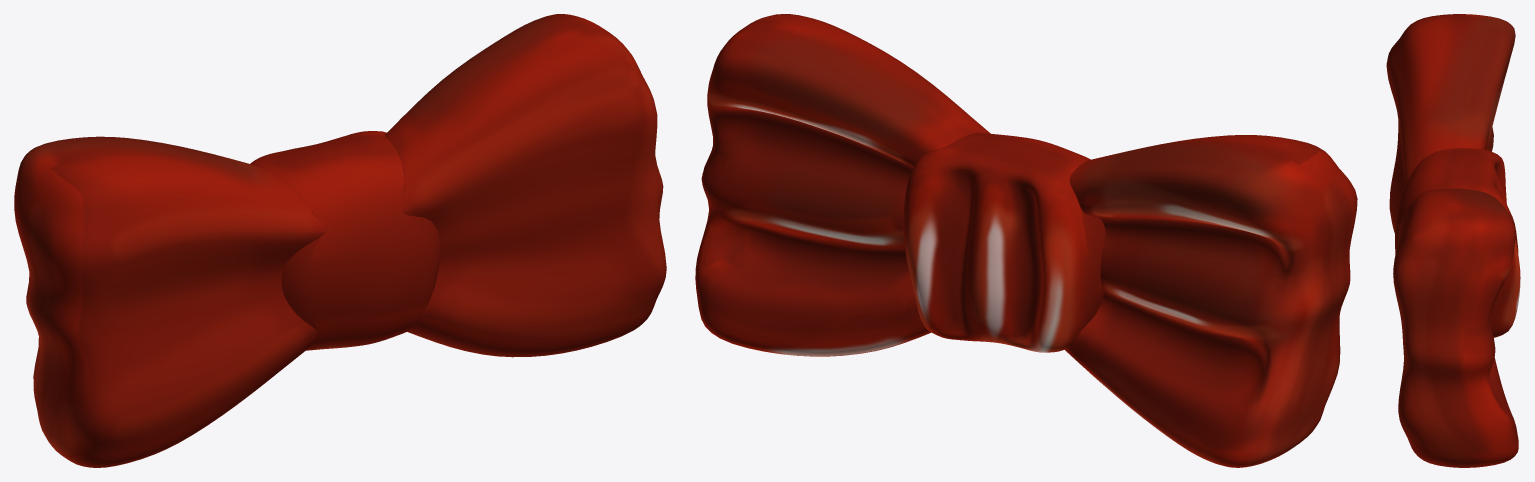
File: bowtie.fbx
3 views of the same model, side by side, from view 1: azimuth 30°, elevation 25°; view 2: azimuth 150°, elevation 25°; view 3: azimuth 270°, elevation 25° (orthographic). The views are drawn at different scales.
Parts seen in each view (by area): view 1: Bow Tie; view 2: Bow Tie; view 3: Bow Tie.
Part boxes in pixels (<box>): Bow Tie: <box>14,14,666,467</box>; Bow Tie: <box>695,14,1357,467</box>; Bow Tie: <box>1386,14,1520,467</box>.
Bounding box in the file's own units: 113 × 53.4 × 26.26.
